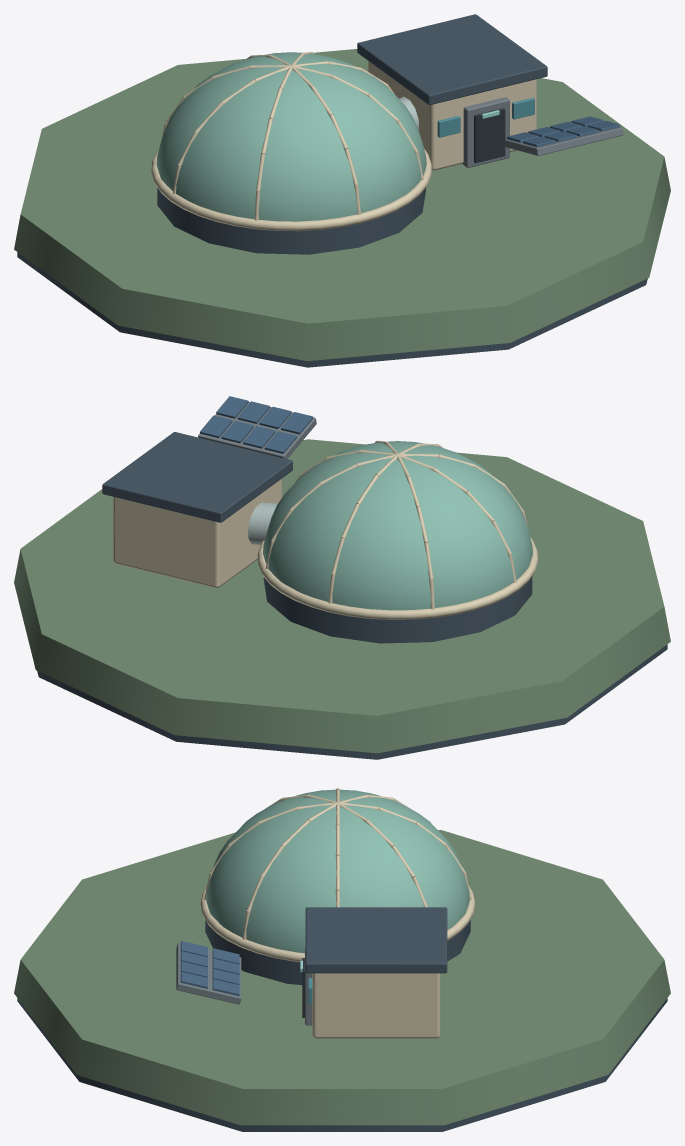
Rendered from mossward.glb.
3 renders of one model, top to bottom at view 1: azimuth 30°, elevation 25°; view 2: azimuth 150°, elevation 25°; view 3: azimuth 270°, elevation 25°, orthographic. The views are drawn at different scales.
Visible parts, largest first — view 1: Terrain cutaway, Geodesic dome, Roof slab, Greenhouse foundation, Habitat pressure shell, Substrate, Dome sill, Sealed door, Airlock surround, Panel backing; view 2: Terrain cutaway, Geodesic dome, Roof slab, Habitat pressure shell, Greenhouse foundation, Substrate, Dome sill, Panel backing, Seed lock; view 3: Terrain cutaway, Geodesic dome, Roof slab, Habitat pressure shell, Substrate, Greenhouse foundation, Dome sill, Panel backing.
Boxes of the visible parts, bbox=[...] form: Terrain cutaway: bbox=[14, 49, 670, 361]; Geodesic dome: bbox=[156, 52, 426, 221]; Roof slab: bbox=[357, 14, 547, 105]; Greenhouse foundation: bbox=[157, 188, 425, 254]; Habitat pressure shell: bbox=[368, 61, 536, 170]; Substrate: bbox=[17, 252, 647, 367]; Dome sill: bbox=[151, 148, 431, 231]; Sealed door: bbox=[474, 108, 505, 163]; Airlock surround: bbox=[462, 97, 509, 167]; Panel backing: bbox=[505, 126, 623, 155]; Terrain cutaway: bbox=[14, 439, 670, 753]; Geodesic dome: bbox=[263, 441, 532, 610]; Roof slab: bbox=[102, 432, 292, 522]; Habitat pressure shell: bbox=[113, 478, 281, 587]; Greenhouse foundation: bbox=[263, 576, 532, 643]; Substrate: bbox=[37, 644, 667, 759]; Dome sill: bbox=[257, 537, 538, 619]; Panel backing: bbox=[198, 402, 316, 458]; Seed lock: bbox=[248, 502, 277, 544]; Terrain cutaway: bbox=[14, 830, 670, 1125]; Geodesic dome: bbox=[206, 789, 469, 953]; Roof slab: bbox=[305, 907, 447, 973]; Habitat pressure shell: bbox=[312, 973, 440, 1038]; Substrate: bbox=[17, 998, 667, 1131]; Greenhouse foundation: bbox=[205, 920, 470, 984]; Dome sill: bbox=[200, 886, 475, 962]; Panel backing: bbox=[176, 943, 241, 1004].
Size of the model in its own units: 5.52 by 1.69 by 5.8.
